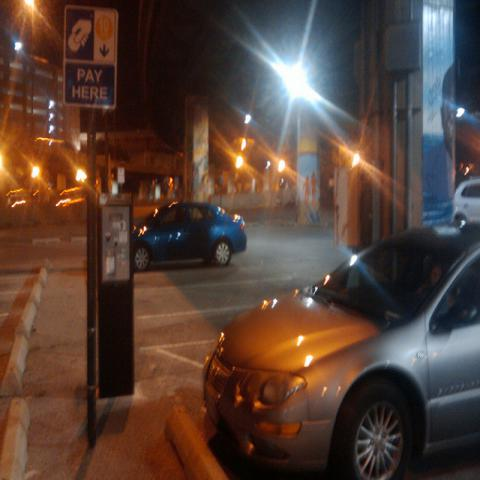car: (201, 217, 479, 479), (132, 204, 246, 270), (452, 177, 479, 222)
